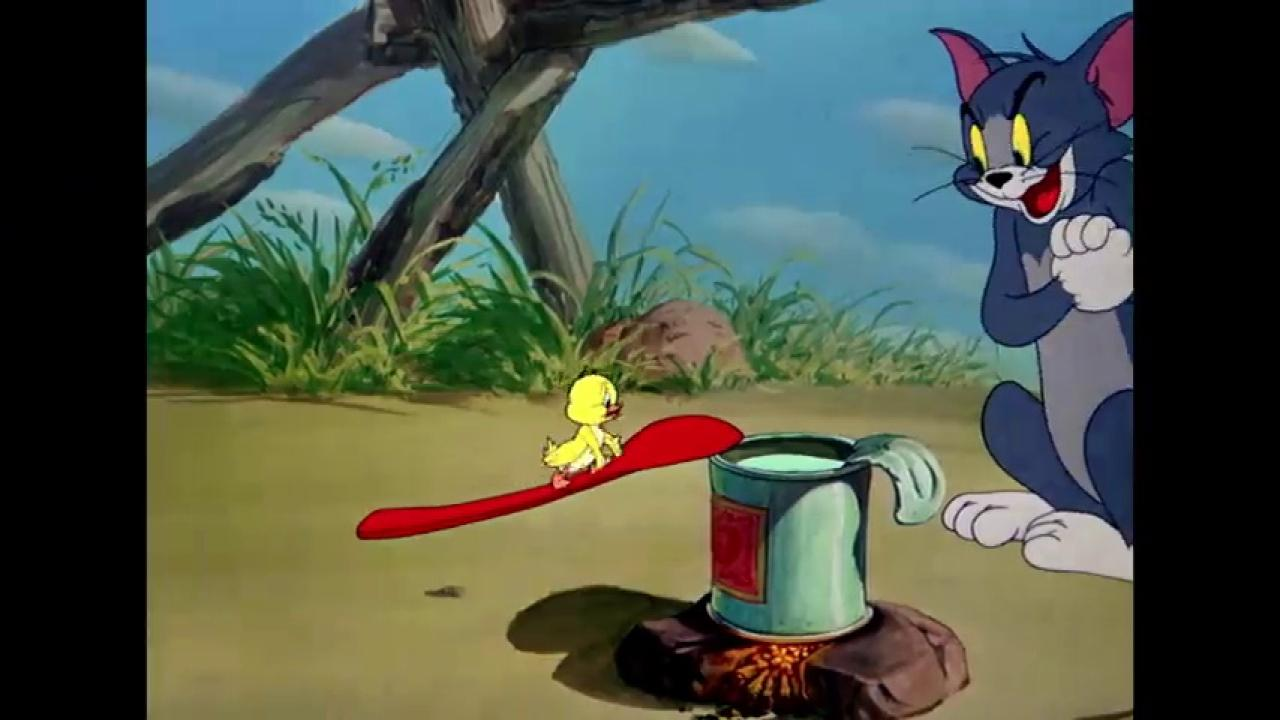Tom: (925, 4, 1134, 574)
